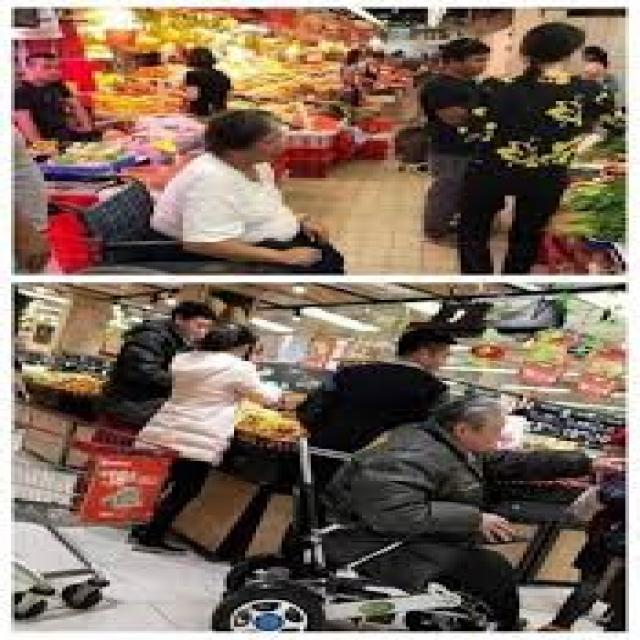wheelchairs: (234, 433, 552, 638)
